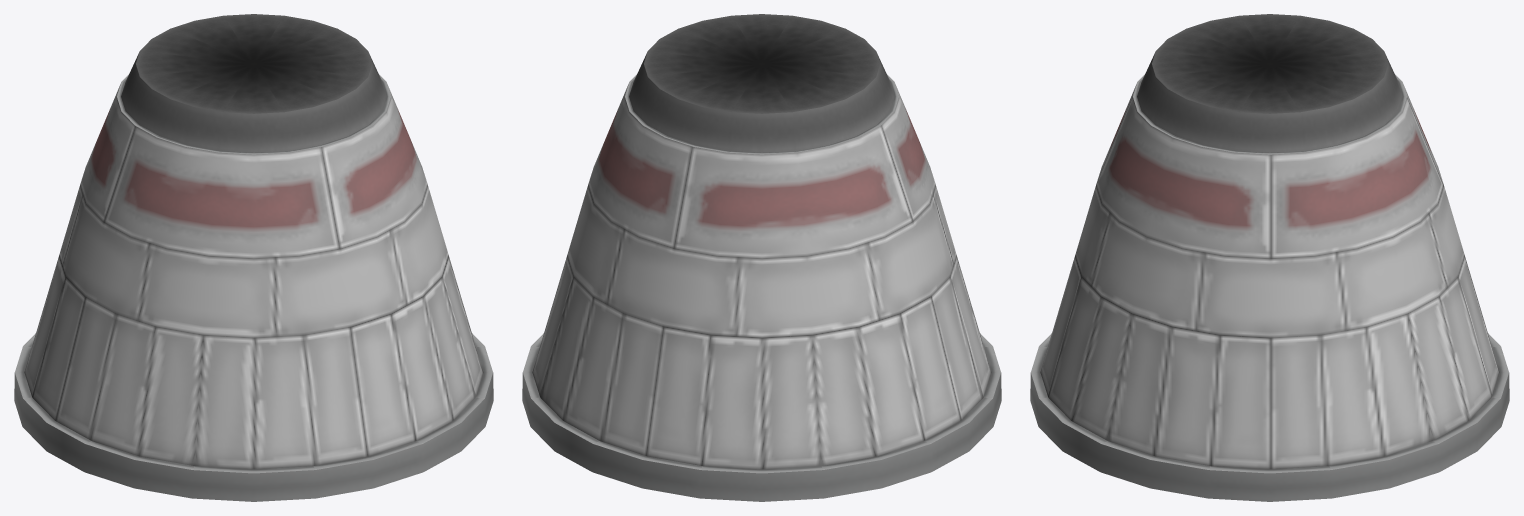
The model's file is Diamant_Adapter.dae.
3 views of the same model, side by side, from view 1: azimuth 30°, elevation 25°; view 2: azimuth 150°, elevation 25°; view 3: azimuth 270°, elevation 25° (orthographic).
Visible parts, largest first — view 1: Adapter625m; view 2: Adapter625m; view 3: Adapter625m.
Part boxes in pixels (box(x1,y1,x2,y2)): Adapter625m: box(14, 14, 493, 501); Adapter625m: box(522, 14, 1001, 501); Adapter625m: box(1030, 14, 1509, 501).
Bounding box in the file's own units: 1.29 × 1 × 1.29.
